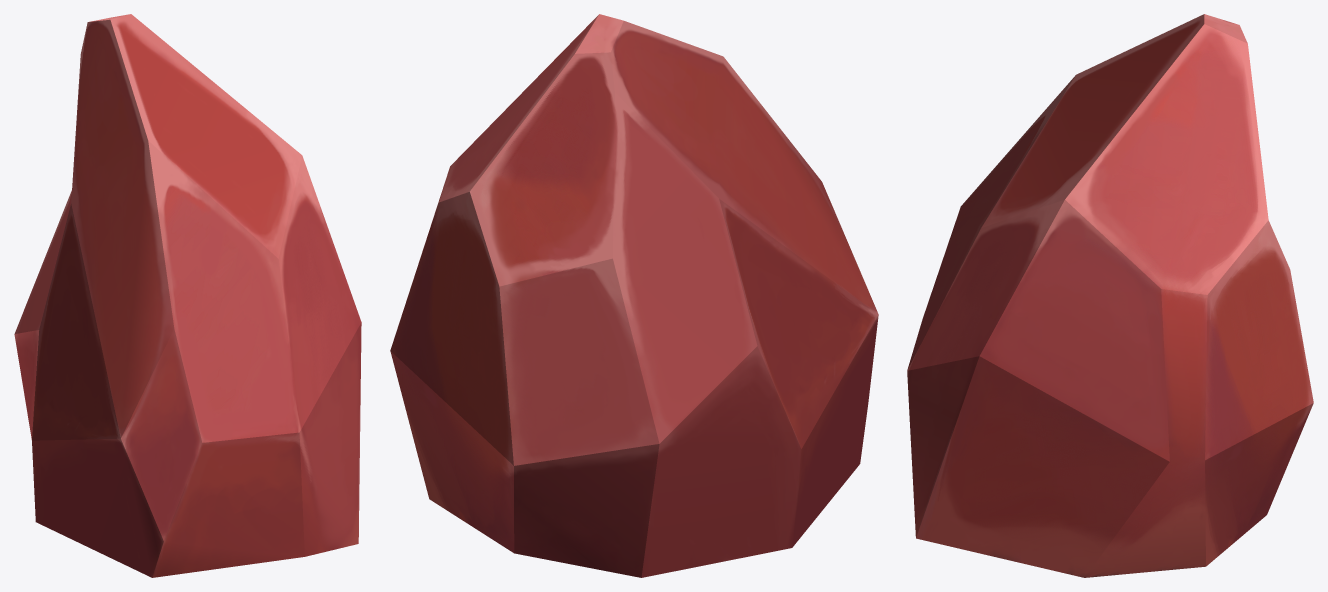
Rendered from SM_Luna_Landing_Rock_1a.fbx.
3 renders of one model, left to right at view 1: azimuth 30°, elevation 25°; view 2: azimuth 150°, elevation 25°; view 3: azimuth 270°, elevation 25°, orthographic. The views are drawn at different scales.
Parts seen in each view (by area): view 1: polySurface1; view 2: polySurface1; view 3: polySurface1.
Boxes of the visible parts, <box> form: polySurface1: <box>14,14,361,577</box>; polySurface1: <box>390,14,878,577</box>; polySurface1: <box>907,14,1313,577</box>.
Size of the model in its own units: 604 by 812 by 637.
1 material, 1 textured.
